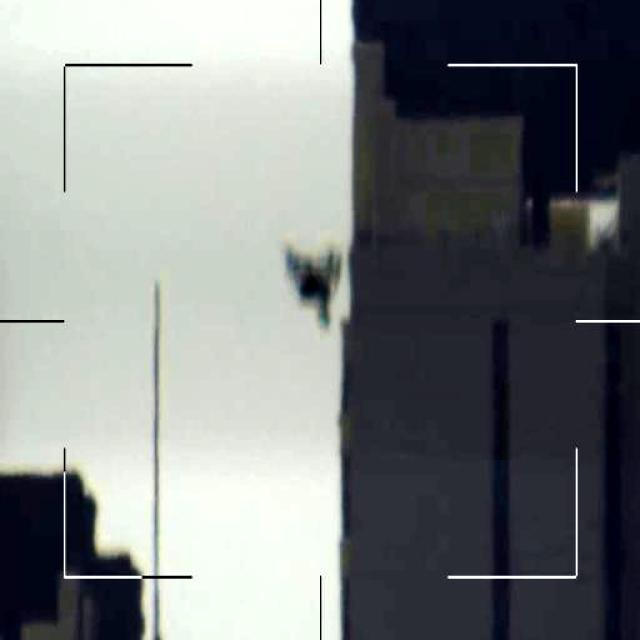bird: (281, 235, 351, 330)
